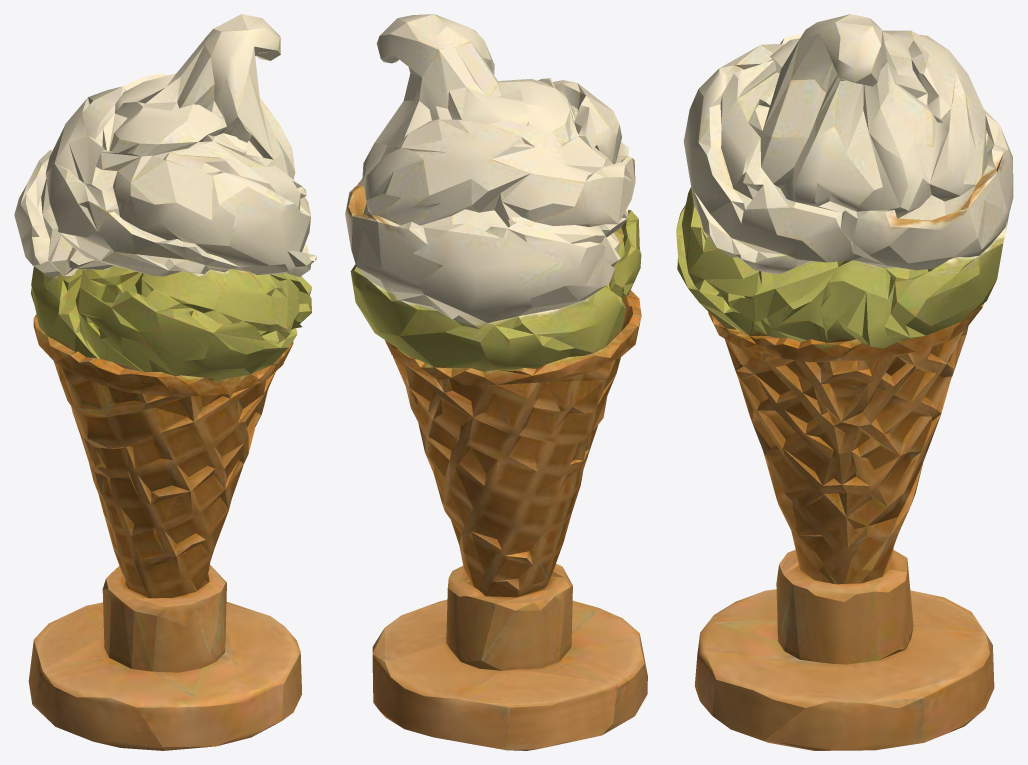
The model's file is dondurma.glb.
3 views of the same model, side by side, from view 1: azimuth 30°, elevation 25°; view 2: azimuth 150°, elevation 25°; view 3: azimuth 270°, elevation 25° (orthographic). The views are drawn at different scales.
Visible parts, largest first — view 1: output_unwrapped; view 2: output_unwrapped; view 3: output_unwrapped.
Part boxes in pixels (left/top/right/bottom): output_unwrapped: left=14, top=14, right=316, bottom=750; output_unwrapped: left=345, top=14, right=647, bottom=750; output_unwrapped: left=676, top=14, right=1013, bottom=750.
Size of the model in its own units: 0.7541 by 1.89 by 0.8105.
1 material, 1 textured.
